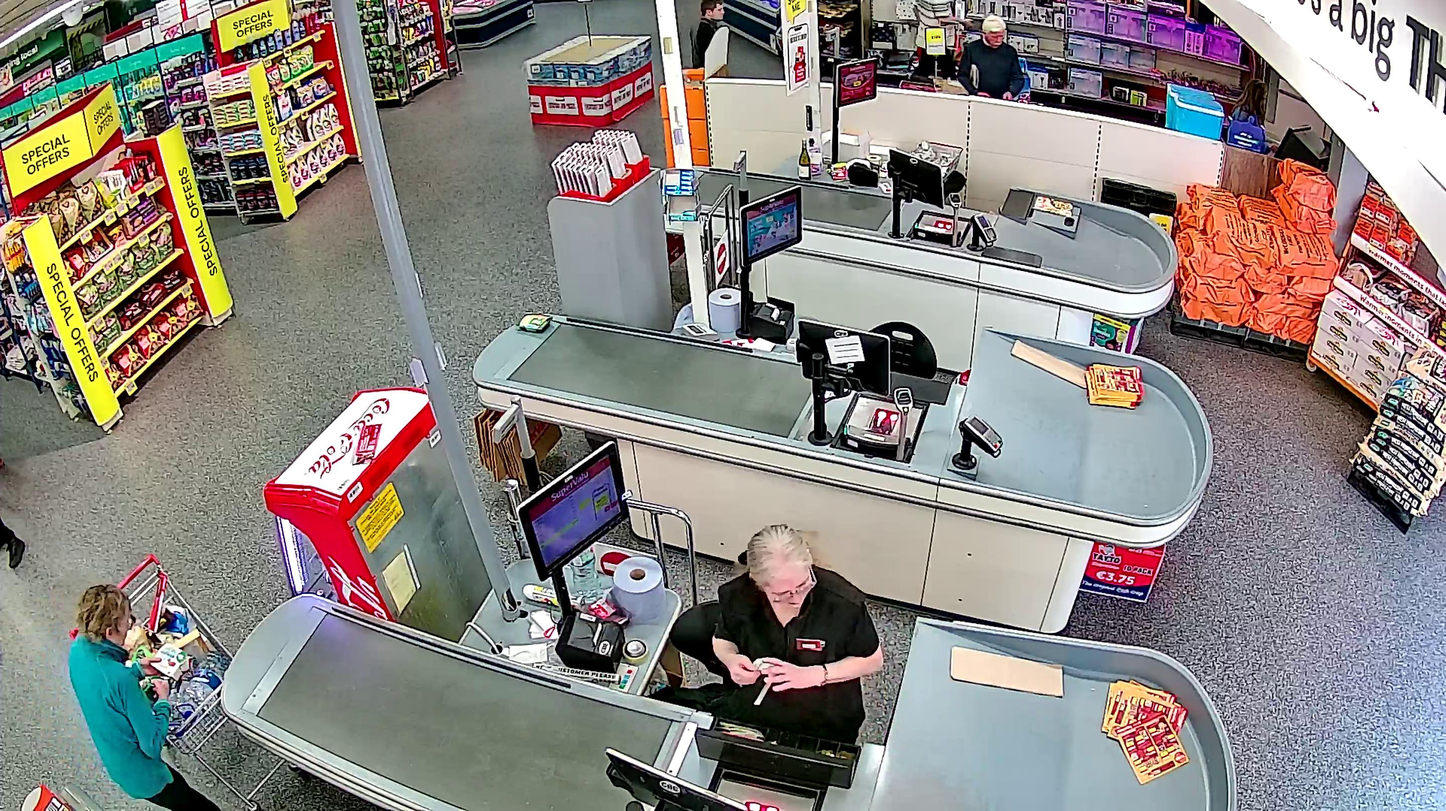filled-trolly: (70, 552, 293, 811)
occupied-checkout-counter: (513, 439, 946, 811)
person: (70, 584, 219, 811)
person-with-filled-basket-trolly: (69, 548, 293, 811), (70, 551, 293, 811)
vacant-checkout-counter: (738, 184, 1004, 469), (829, 54, 1031, 257)
